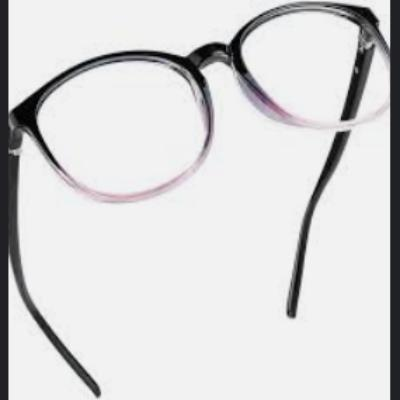glasses: (9, 1, 391, 395)
